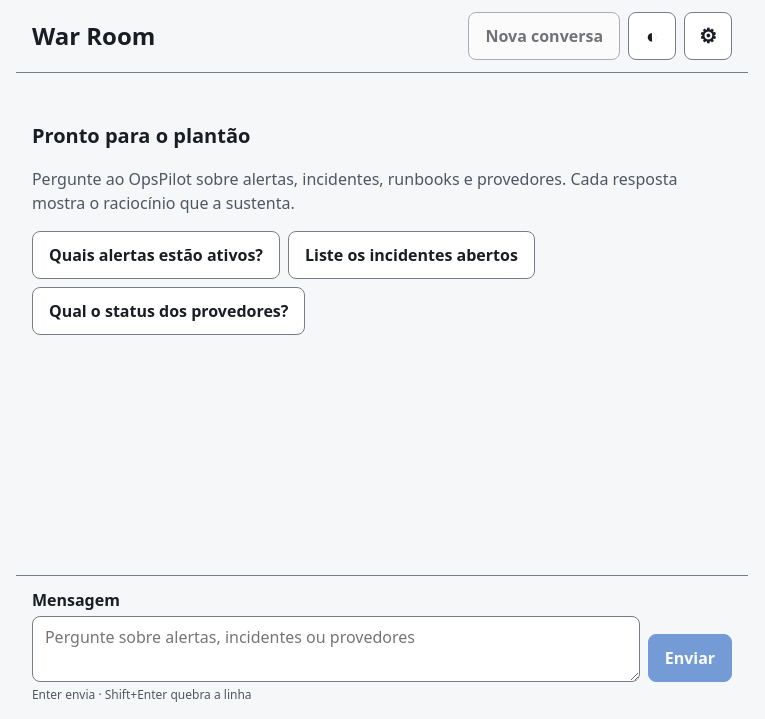
Test: an expired or already decided approval shows that it is no longer pending
In the text box labelled "Mensagem": point(336, 649) x1=32 y1=616 x2=640 y2=682, type "Resolva o incidente incident-001"
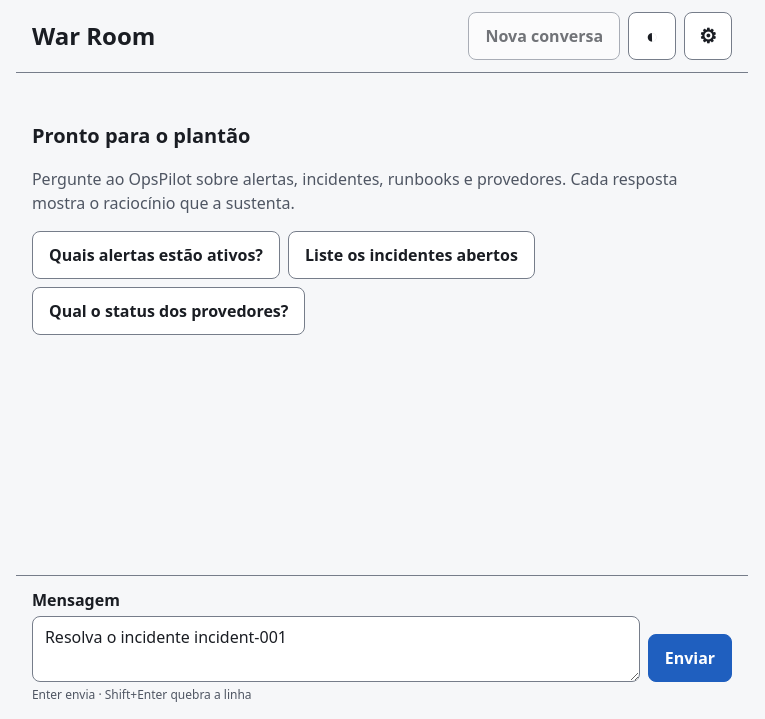
Click the button "Enviar": point(690, 658) x1=648 y1=634 x2=732 y2=682
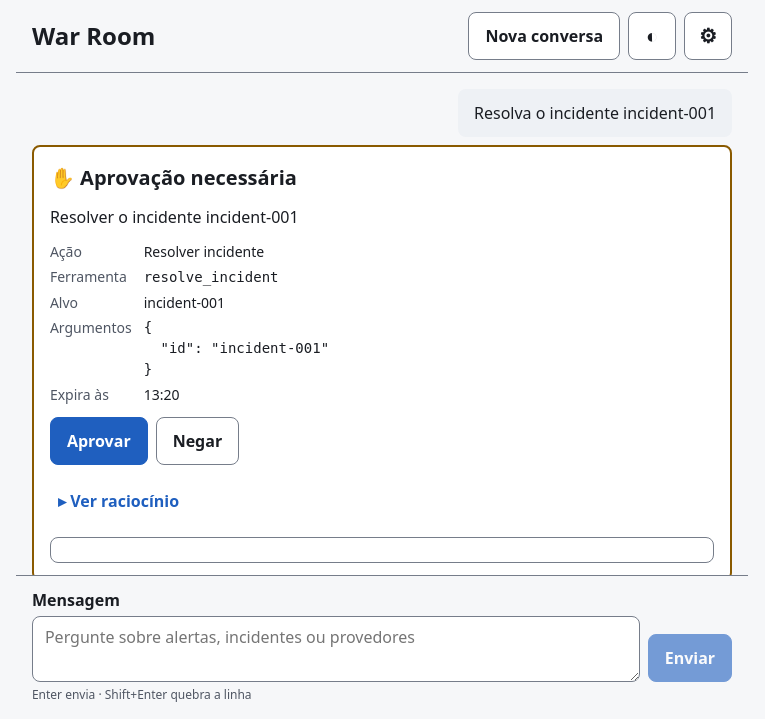
Click the button "Aprovar": point(99, 441) x1=50 y1=417 x2=148 y2=465
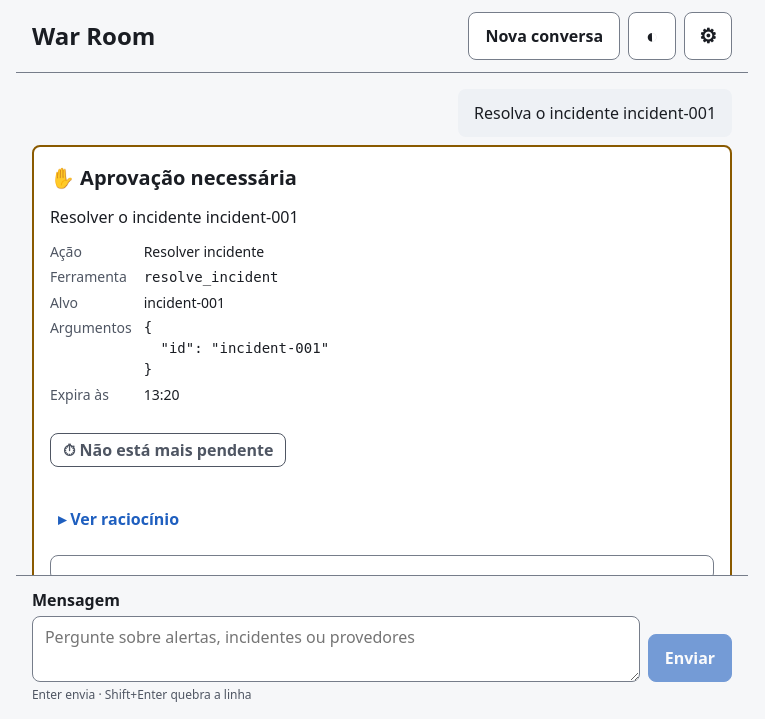
Check: the text "Não está mais pendente" is shown, box x1=80 y1=439 x2=274 y2=461
Check: the button "Aprovar" is gone
